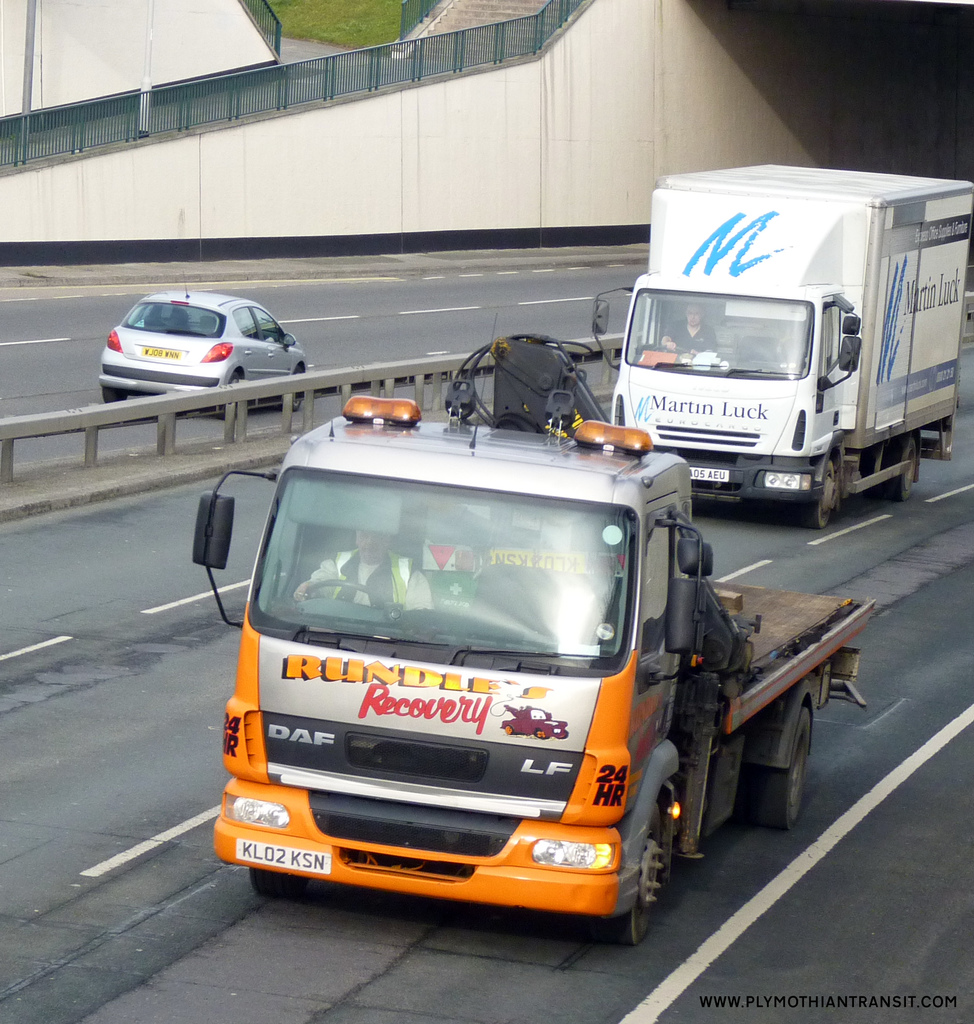Car: (95, 270, 307, 420)
